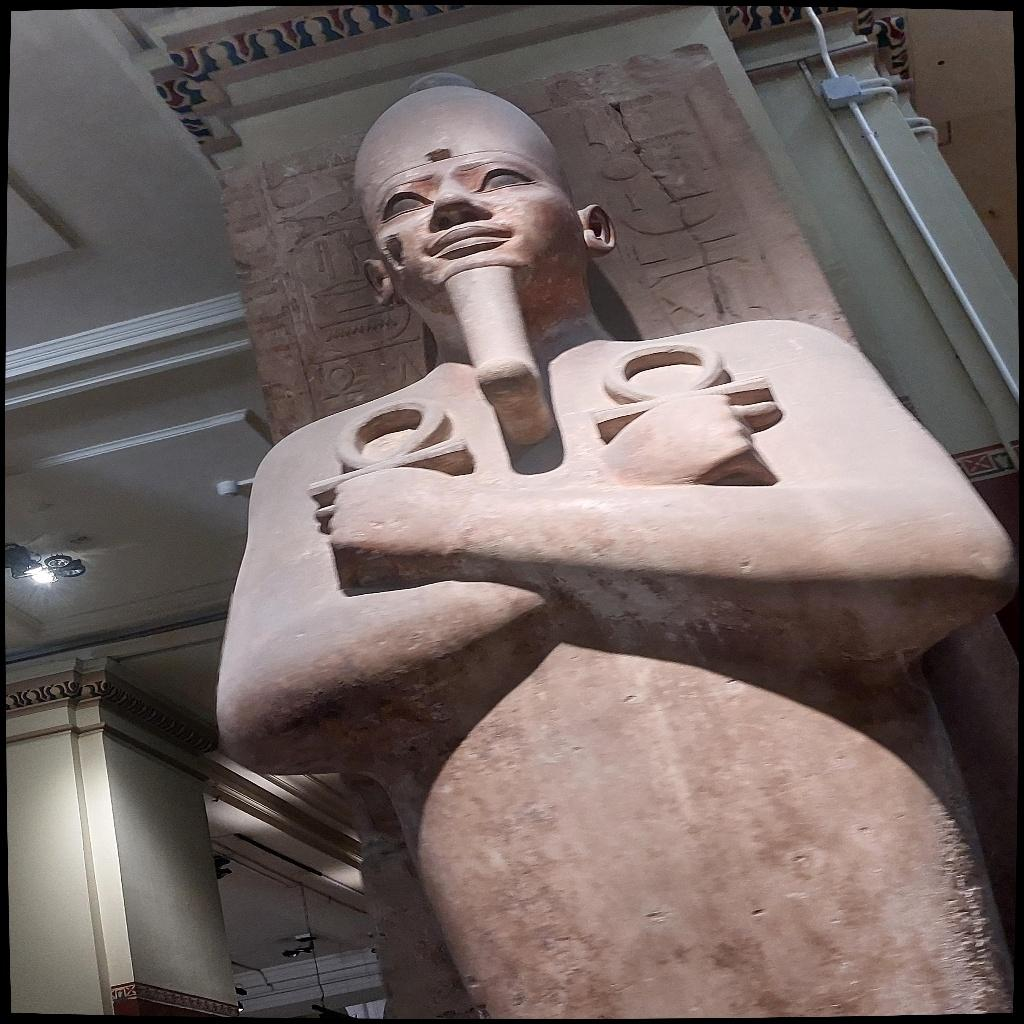Colossus of Senuseret I: (206, 67, 1012, 1012)
